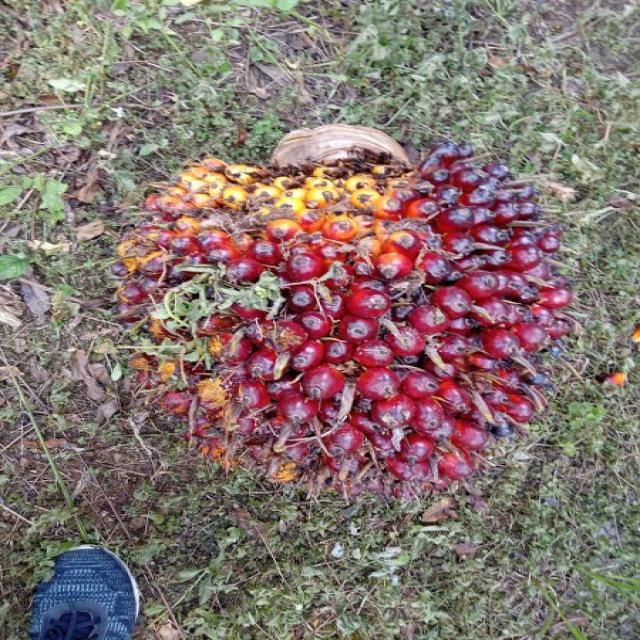fraksi 1: (54, 92, 618, 528)
